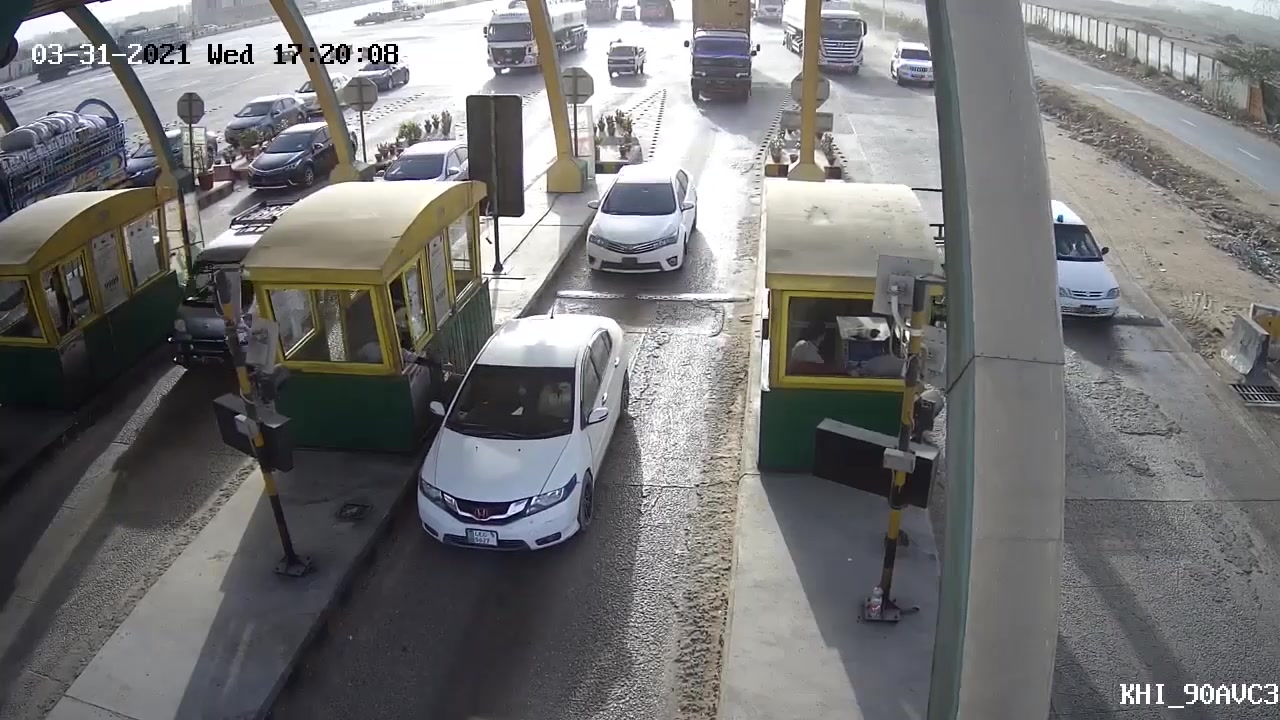F1: (404, 308, 633, 561), (579, 159, 703, 284)
